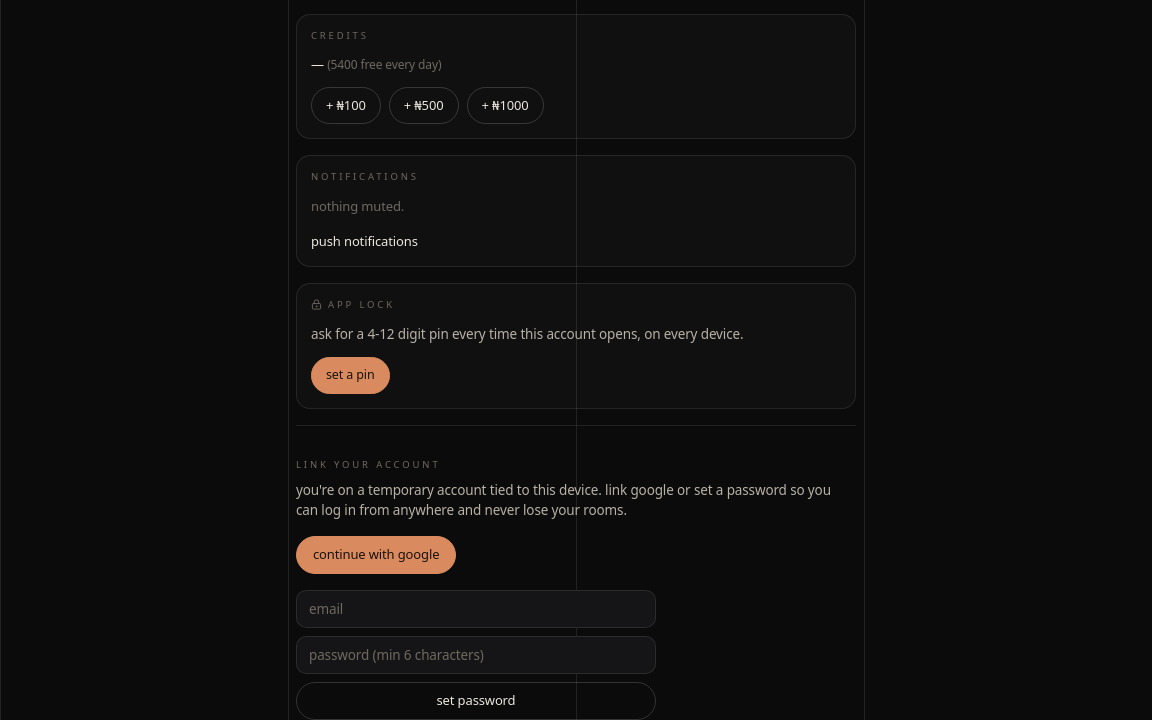
Test case: link-account section › shows the already-in-use message on a 409 and never claims success
This screenshot has width=1152, height=720.
(page scrolled)
Type "e@x.com" into the field with placeholder "email" at (476, 609), box [296, 590, 656, 628]
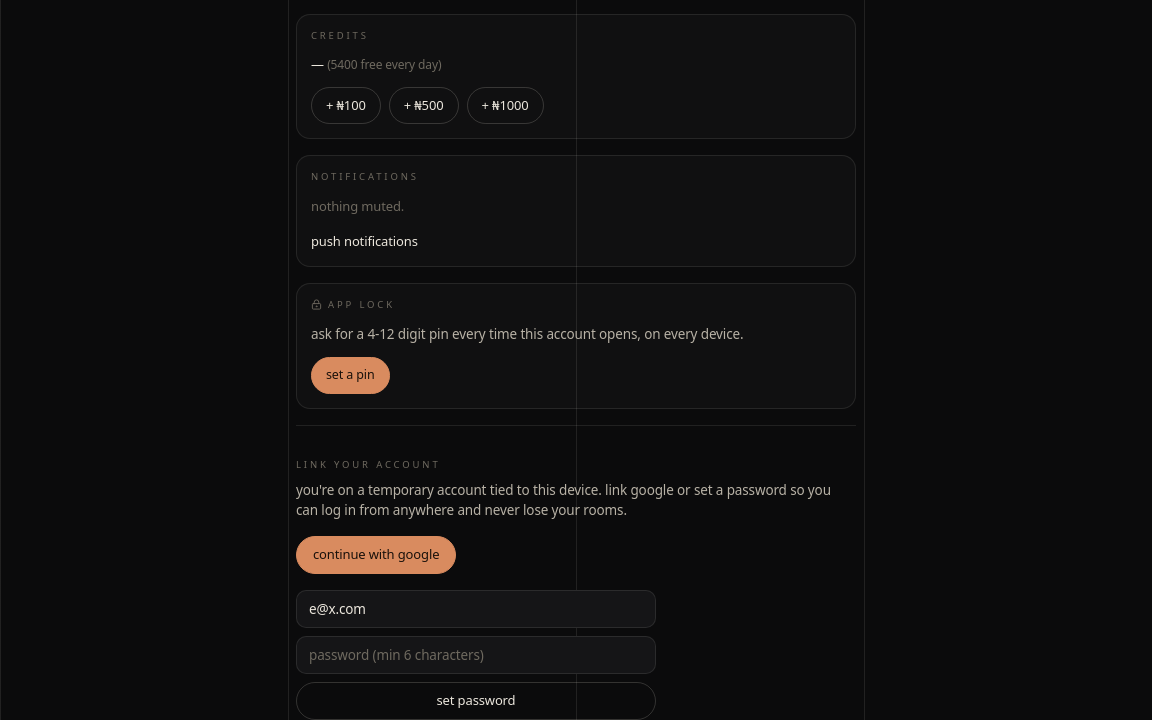
Type "hunter22" into the password field with placeholder "password (min 6 characters)" at (476, 655), box [296, 636, 656, 674]
(page scrolled)
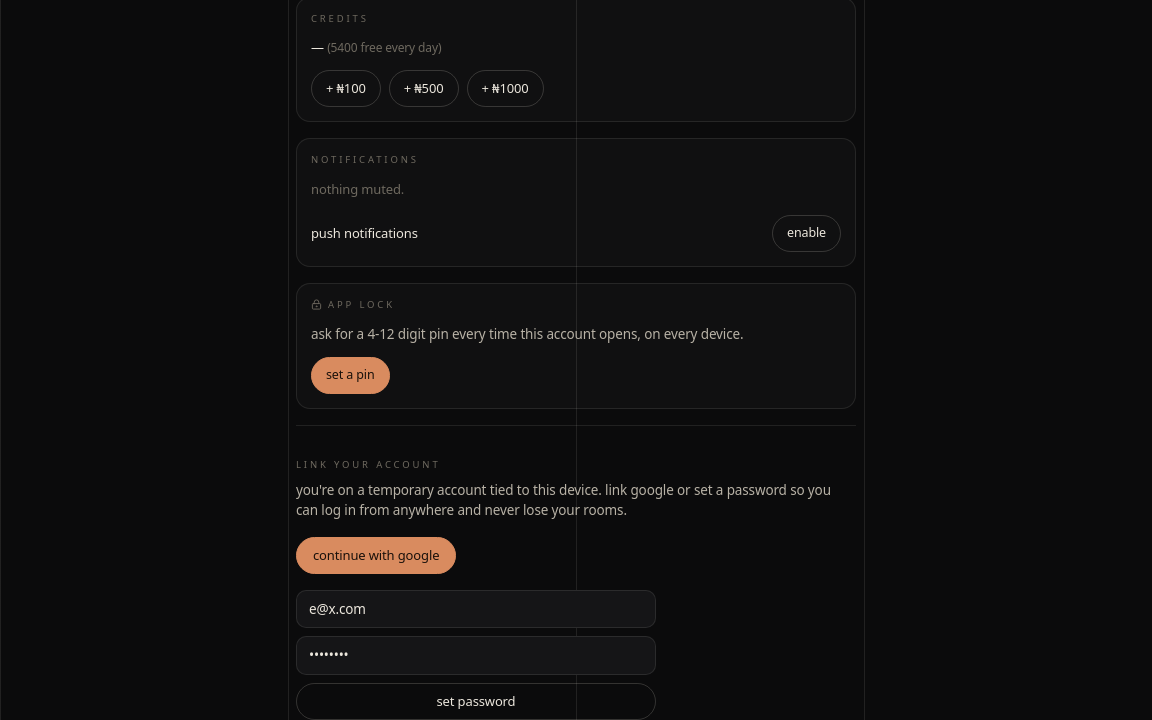
Click the button "set password" at (476, 701), box [296, 682, 656, 719]
(page scrolled)
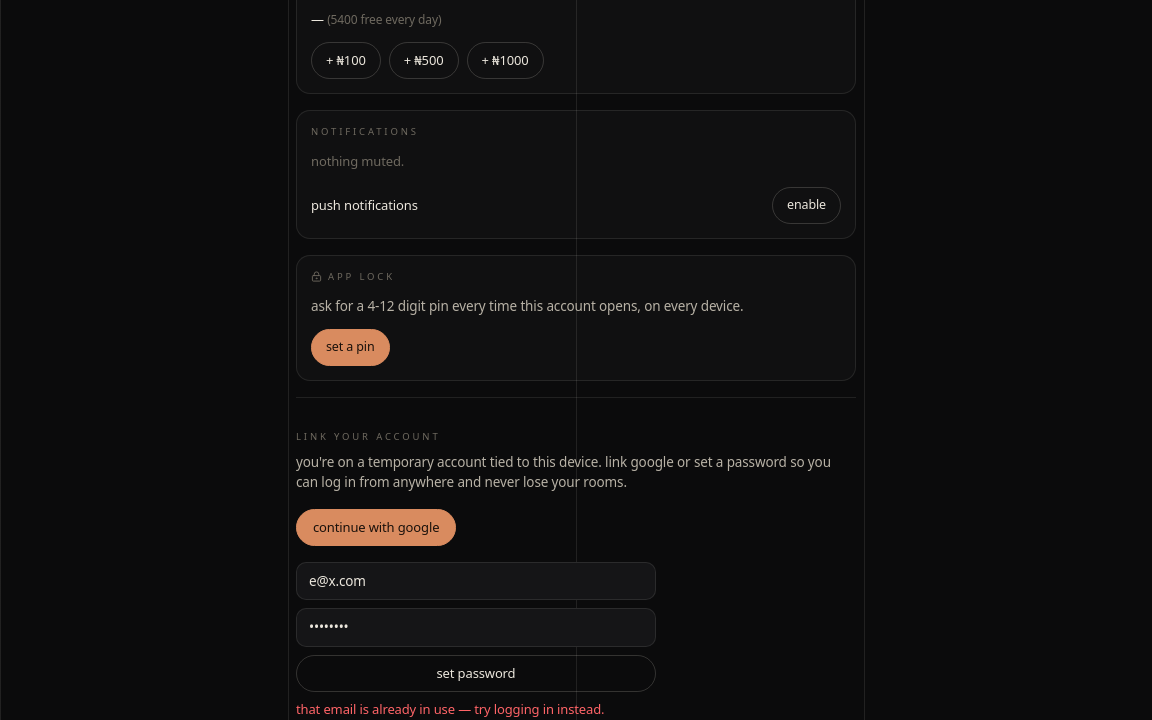
Expected: the text "that email is already in use — try logging in instead." is shown, [296, 700, 656, 719]
